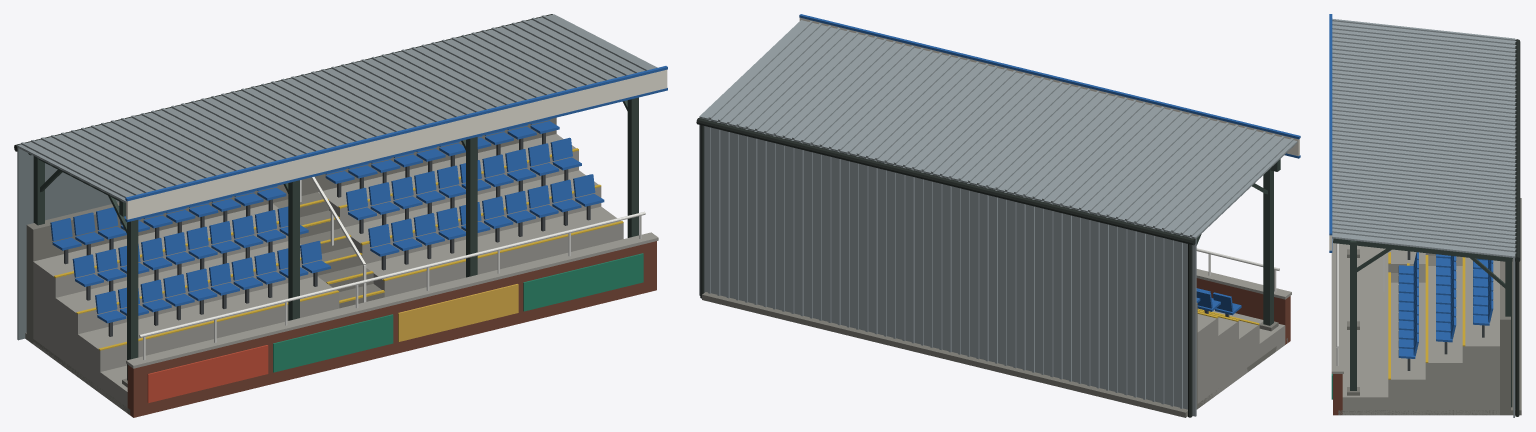
Rendered from the_shed_3.glb.
3 renders of one model, left to right at view 1: azimuth 30°, elevation 25°; view 2: azimuth 150°, elevation 25°; view 3: azimuth 270°, elevation 25°, orthographic. The views are drawn at different scales.
Visible parts, largest first — view 1: Shed_Corrugated_Sheet, Shed_Concrete, Shed_Club_Primary_Seats, Shed_Front_Wall, Shed_Club_Secondary_Fascia, Shed_Concrete_Dark, Shed_Steel_Frame, Shed_Advert_2, Shed_Corrugated_Underside, Shed_Club_Primary_Trim, Shed_Advert_1, Shed_Advert_3 (+3 smaller); view 2: Shed_Corrugated_Sheet, Shed_Concrete, Shed_Gutter, Shed_Concrete_Dark, Shed_Club_Primary_Trim, Shed_Steel_Frame, Shed_Front_Wall, Shed_Club_Secondary_Fascia, Shed_Club_Primary_Seats, Shed_Corrugated_Underside; view 3: Shed_Corrugated_Sheet, Shed_Concrete, Shed_Club_Primary_Seats, Shed_Concrete_Dark, Shed_Steel_Frame, Shed_Gutter, Shed_Step_Edge_Yellow, Shed_Club_Primary_Trim, Shed_Railing_White, Shed_Front_Wall, Shed_Corrugated_Underside.
Boxes of the visible parts, x1,y1,x2,y2 form: Shed_Corrugated_Sheet: (17, 14, 657, 339); Shed_Concrete: (33, 134, 658, 413); Shed_Club_Primary_Seats: (50, 119, 604, 323); Shed_Front_Wall: (127, 241, 656, 417); Shed_Club_Secondary_Fascia: (126, 69, 667, 219); Shed_Concrete_Dark: (25, 117, 556, 414); Shed_Steel_Frame: (28, 97, 638, 380); Shed_Advert_2: (273, 253, 643, 372); Shed_Corrugated_Underside: (18, 147, 125, 340); Shed_Club_Primary_Trim: (125, 66, 667, 222); Shed_Advert_1: (147, 345, 268, 402); Shed_Advert_3: (398, 284, 518, 341); Shed_Corrugated_Sheet: (699, 20, 1297, 416); Shed_Concrete: (1196, 269, 1291, 404); Shed_Gutter: (696, 118, 1195, 417); Shed_Concrete_Dark: (702, 292, 1287, 417); Shed_Club_Primary_Trim: (799, 14, 1300, 158); Shed_Steel_Frame: (1196, 159, 1280, 325); Shed_Front_Wall: (1196, 278, 1290, 344); Shed_Club_Secondary_Fascia: (799, 17, 1299, 156); Shed_Club_Primary_Seats: (1196, 288, 1241, 315); Shed_Corrugated_Underside: (700, 118, 1296, 415); Shed_Corrugated_Sheet: (1332, 18, 1516, 417); Shed_Concrete: (1331, 238, 1499, 415); Shed_Club_Primary_Seats: (1398, 252, 1493, 358); Shed_Concrete_Dark: (1338, 198, 1521, 415); Shed_Steel_Frame: (1333, 238, 1512, 407); Shed_Gutter: (1515, 39, 1520, 416); Shed_Step_Edge_Yellow: (1388, 252, 1465, 379); Shed_Club_Primary_Trim: (1329, 14, 1332, 252); Shed_Railing_White: (1336, 243, 1394, 365); Shed_Front_Wall: (1333, 374, 1342, 415); Shed_Corrugated_Underside: (1332, 238, 1513, 417).
Size of the model in its own units: 11.88 by 4.68 by 4.4.
